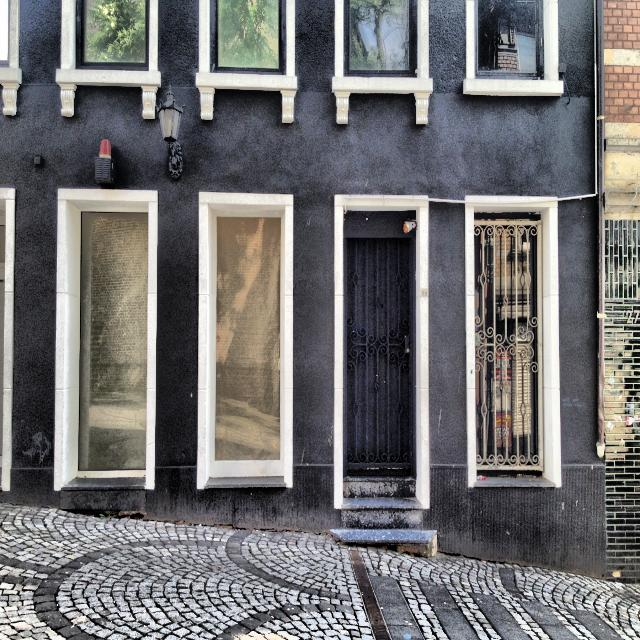escada: (334, 478, 438, 556)
